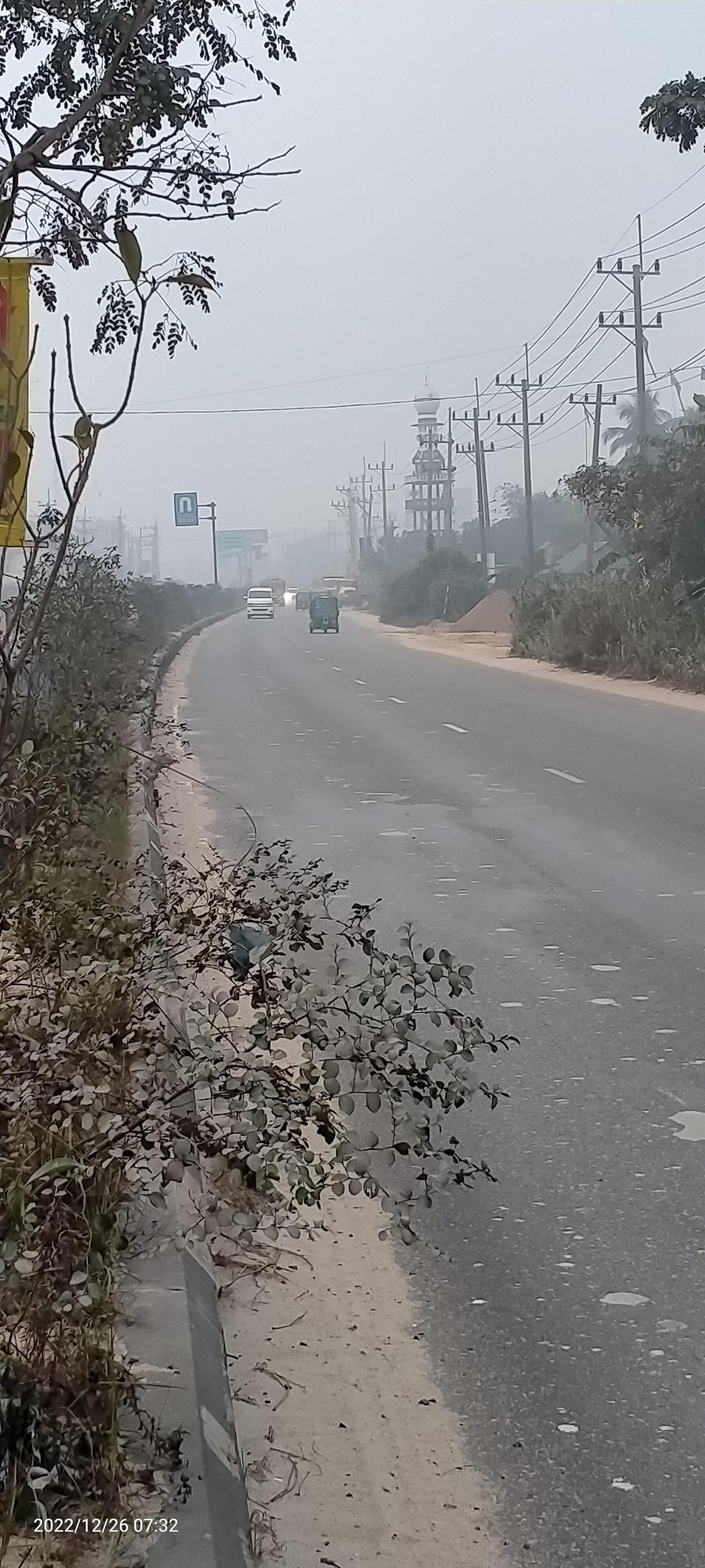Car: (241, 582, 276, 621)
